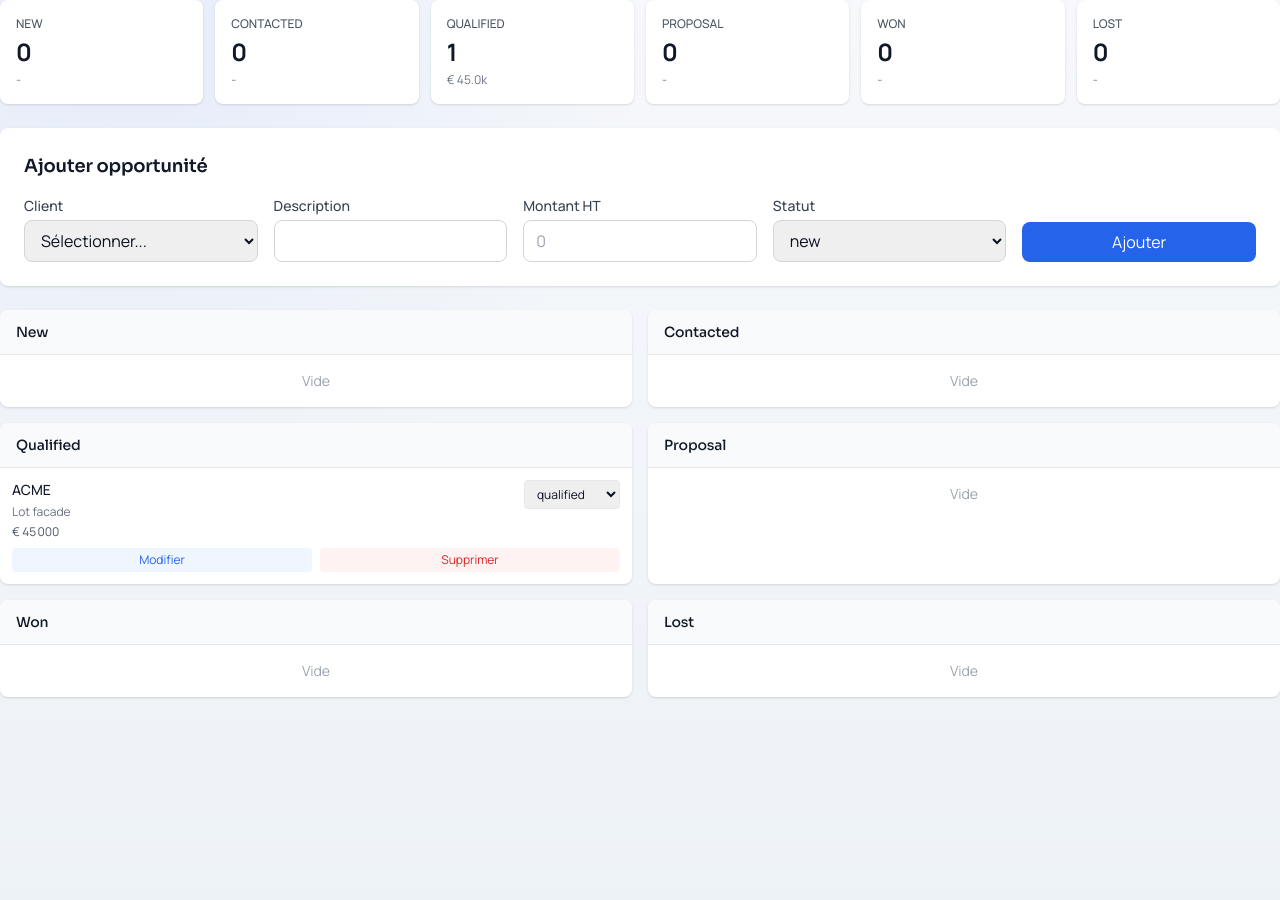
Test: SalesLeadPipeline › edite une opportunite et affiche un toast de succes
This screenshot has width=1280, height=900.
Click the button "Modifier": {"x": 162, "y": 560} [12, 548, 312, 572]
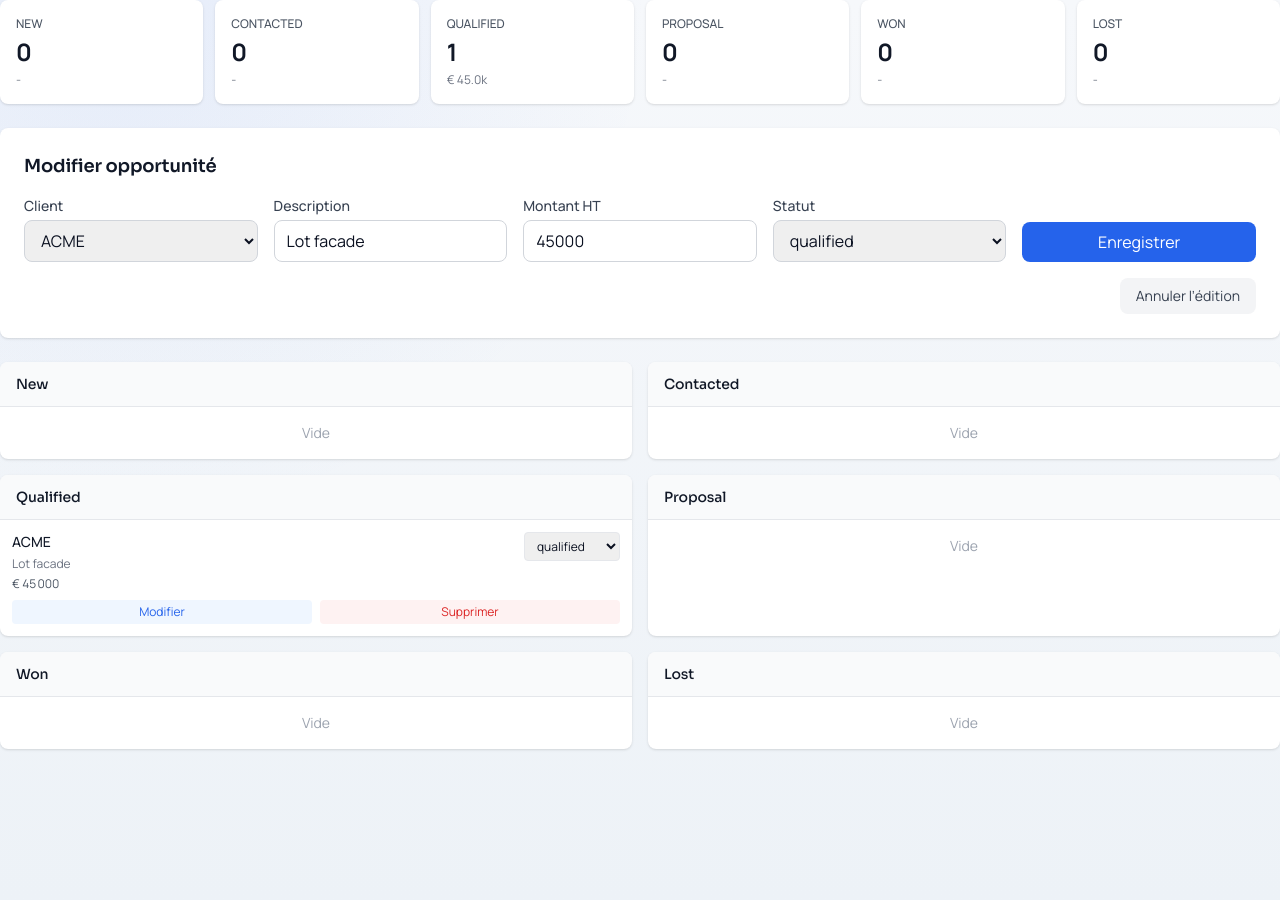
Now the form "Enregistrer" is shown, box [24, 196, 1256, 314]
Replace the text in the field showing "Lot facade" with "Lot facade nord": {"x": 390, "y": 241} [274, 220, 507, 262]
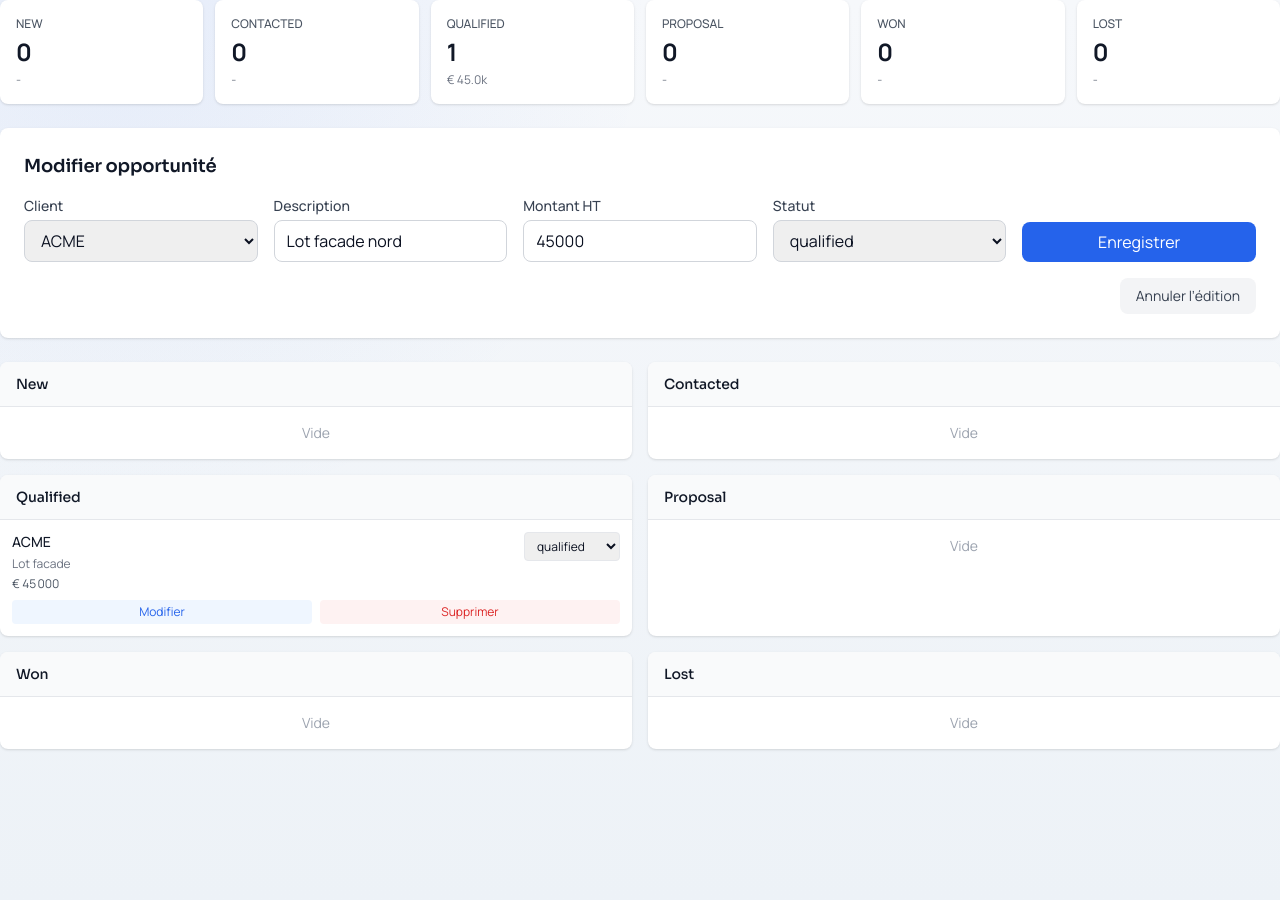
Replace the text in the number field showing "45000" with "47000": {"x": 640, "y": 241} [523, 220, 757, 262]
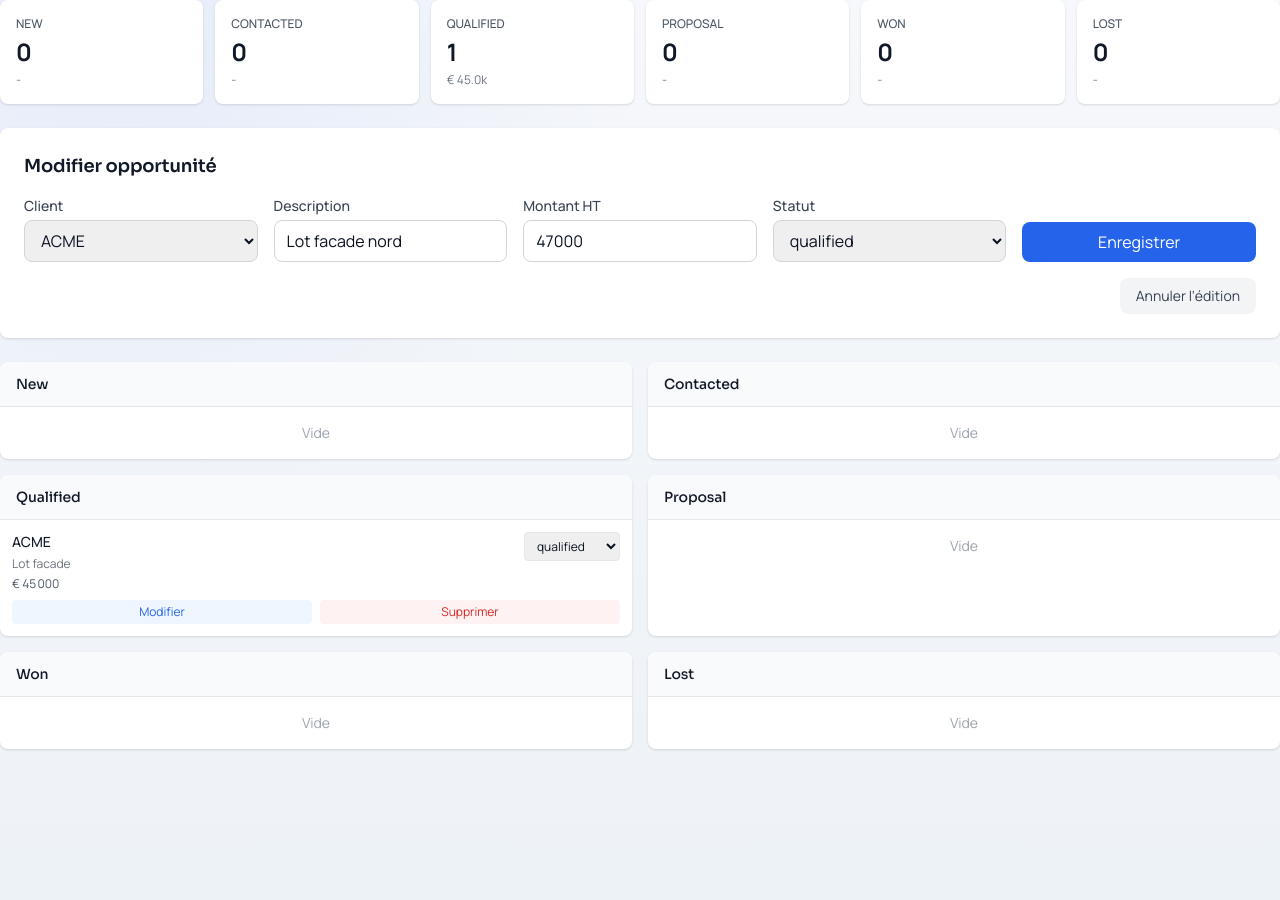
Select "proposal" in the dropdown showing "qualified" below "Statut": {"x": 890, "y": 241} [773, 220, 1006, 262]
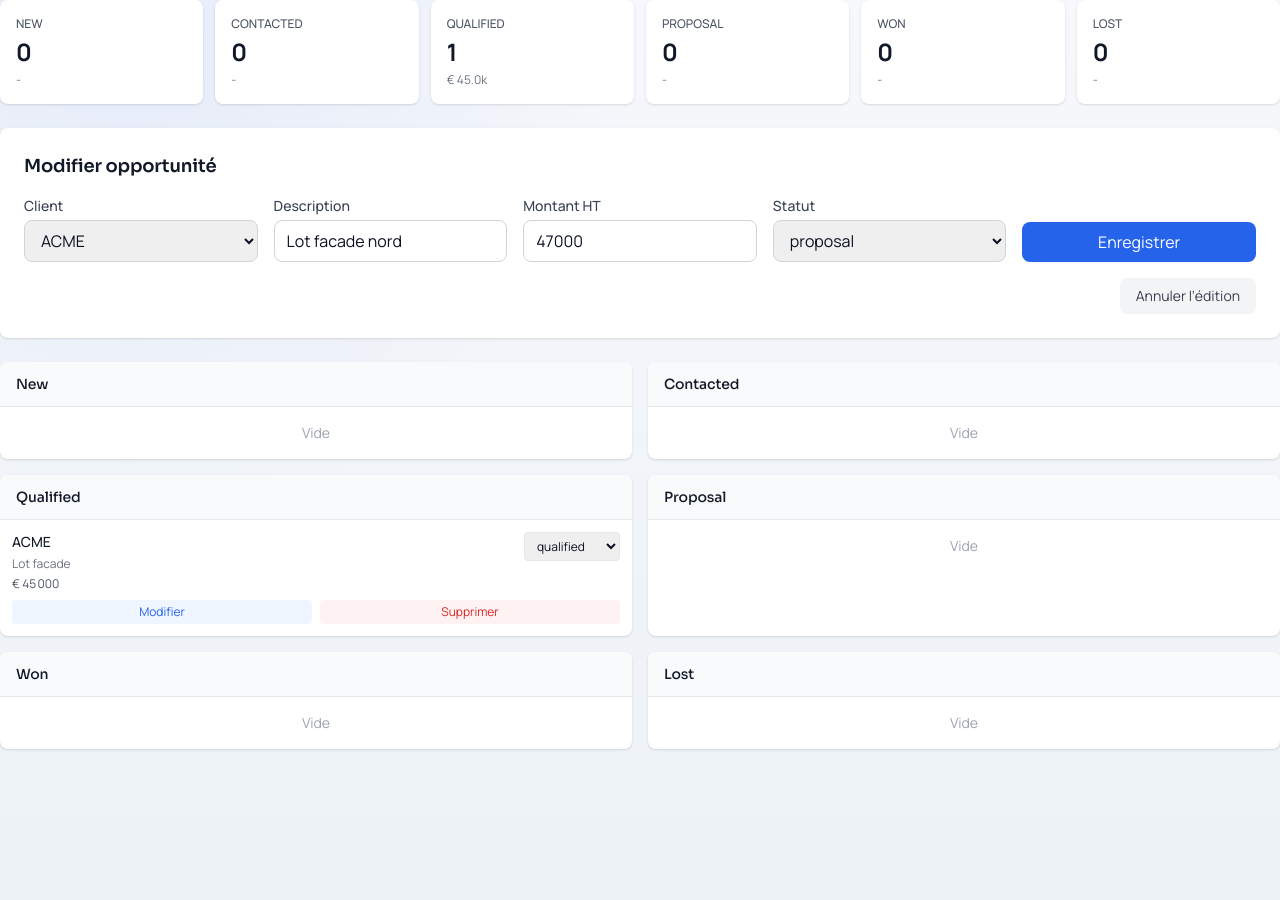
Click the button "Enregistrer": {"x": 1139, "y": 242} [1022, 222, 1256, 262]
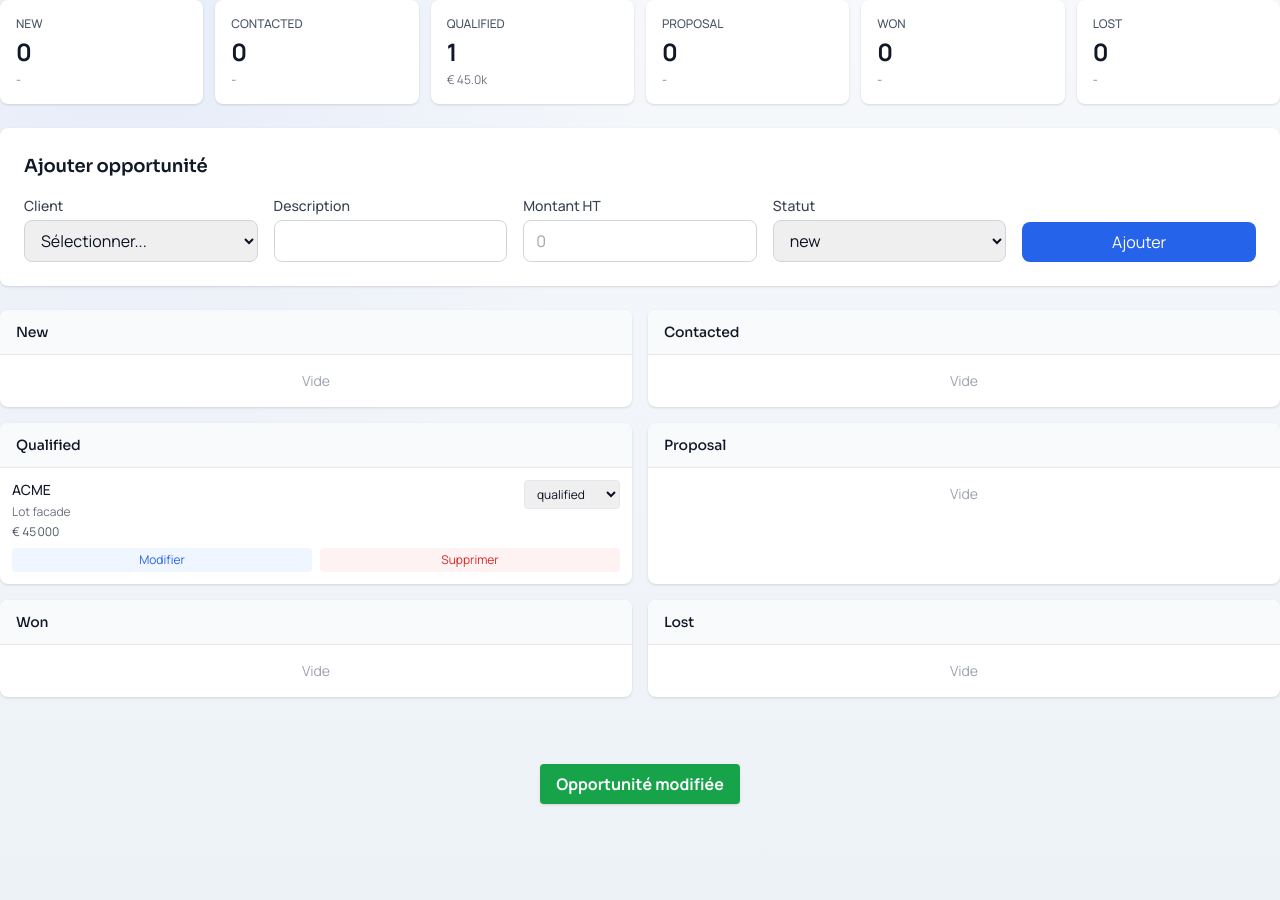
Now the text "Opportunité modifiée" is shown, box [540, 764, 740, 804]
